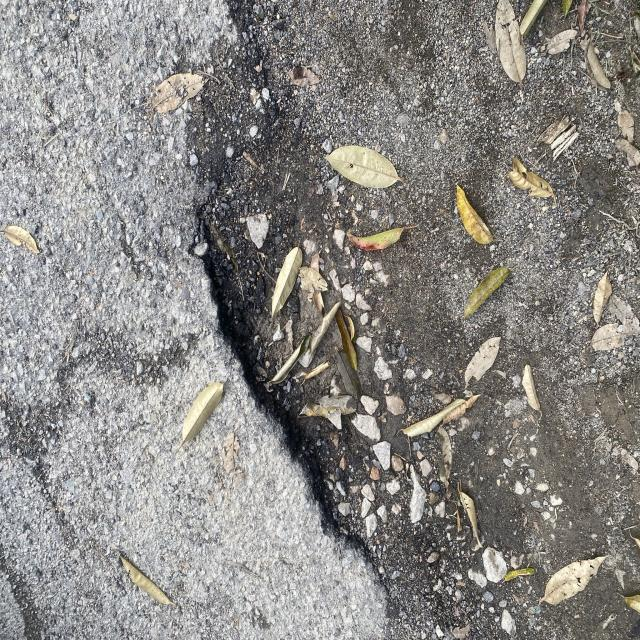Pothole: (148, 157, 407, 615)
